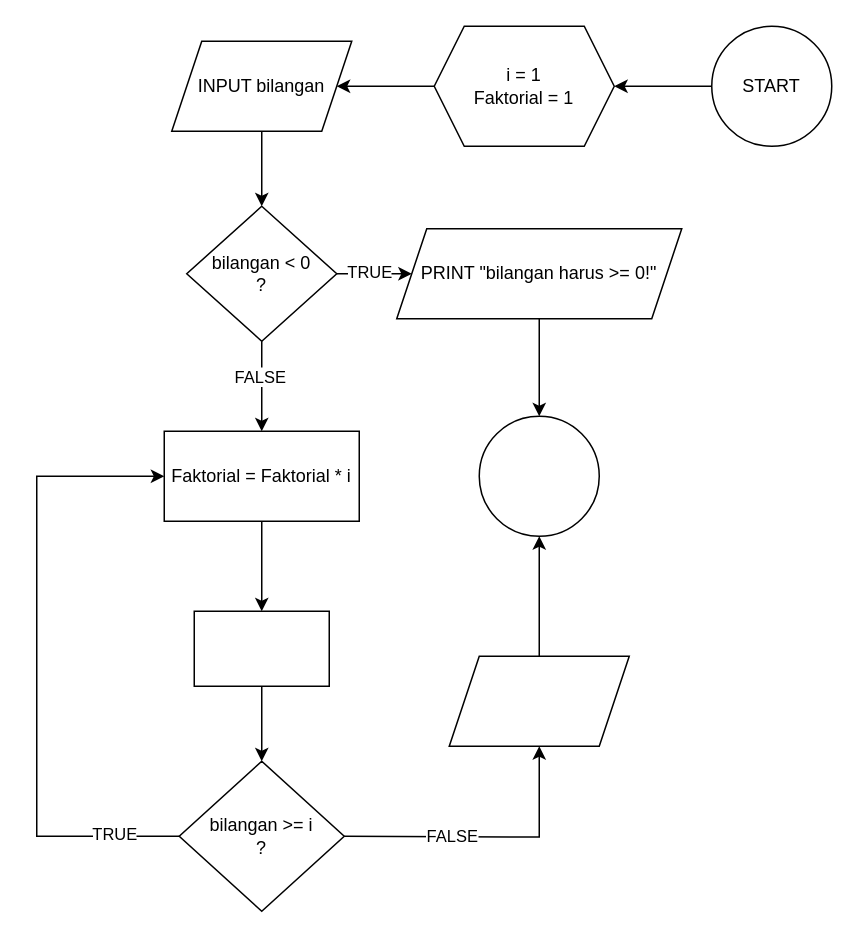
The diagram is 858 pixels wide and 938 high, and some of its shapes have lost their labels. The centre of each missing label's shape, as x and y in pixels:
END: point (538, 475)
i = i + 1: point (261, 648)
PRINT "Hasil Faktorial": point (538, 700)
